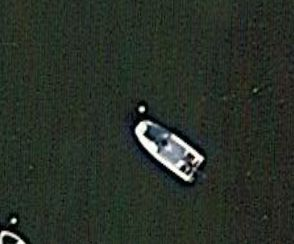boat: (127, 116, 209, 184)
